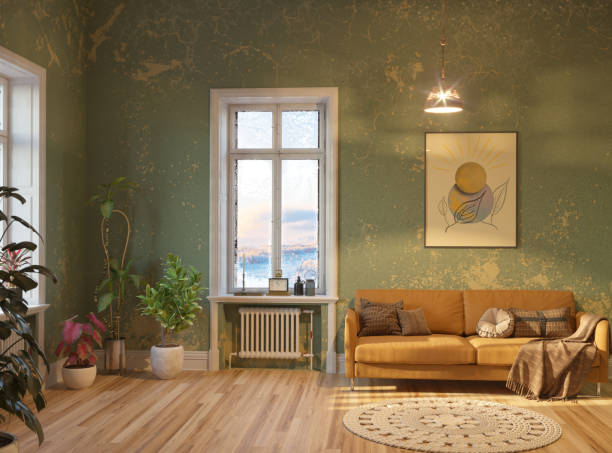large plant: (0, 179, 55, 446), (94, 170, 142, 376), (139, 251, 205, 382), (56, 309, 104, 388)
sofa: (343, 285, 612, 399)
wall art: (422, 129, 520, 249)
